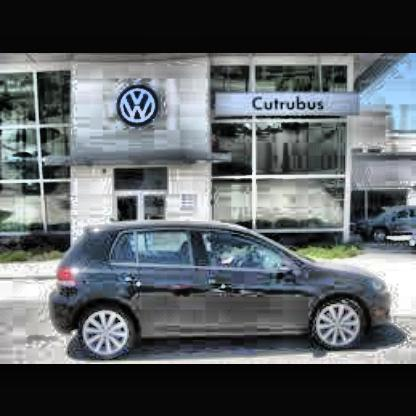Volkswagen Golf Hatchback 2012: (51, 222, 396, 364)
